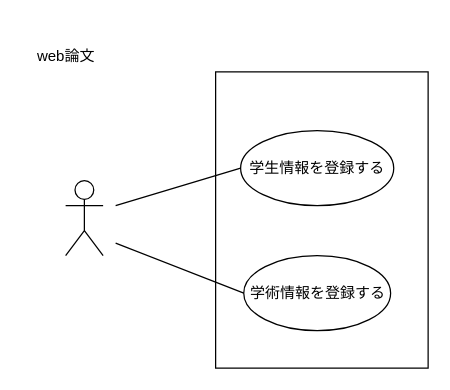
This 450x390 diagram has some shape labels left out. Here are the shapes that lost their labels. From the top down, the box of each, then its label:
(64, 179, 103, 256): ユーザ
(214, 71, 428, 368): システム内部
